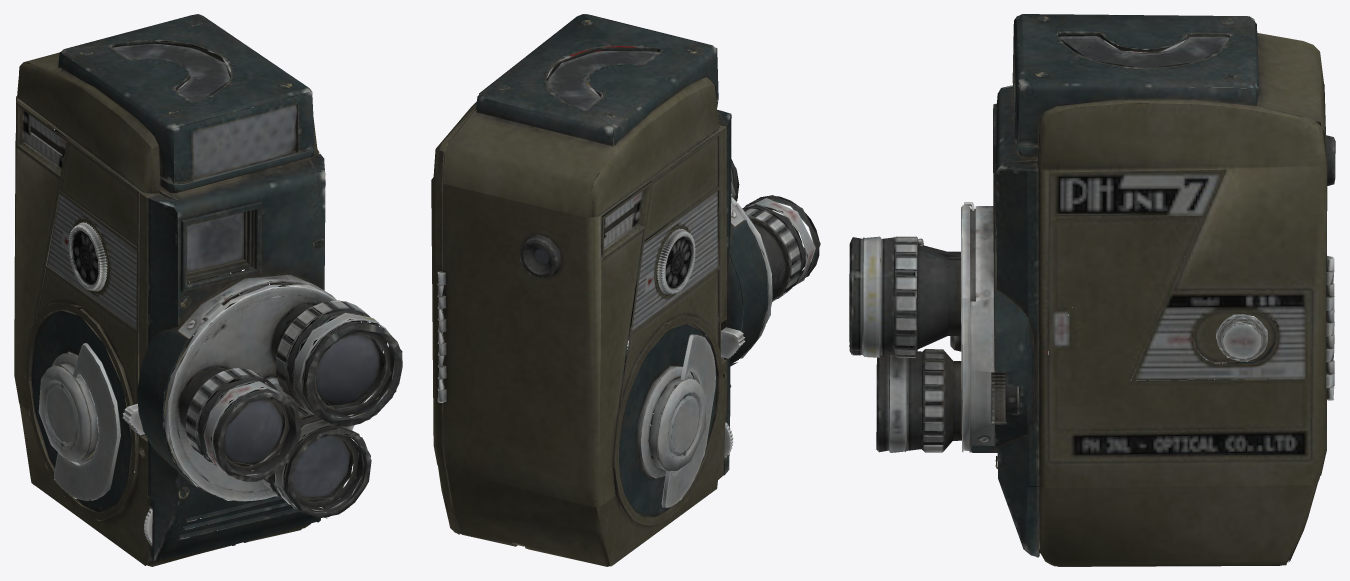
File: distance.fbx
3 views of the same model, side by side, from view 1: azimuth 30°, elevation 25°; view 2: azimuth 150°, elevation 25°; view 3: azimuth 270°, elevation 25° (orthographic). The views are drawn at different scales.
Parts seen in each view (by area): view 1: vintage_video_camera; view 2: vintage_video_camera; view 3: vintage_video_camera.
Boxes of the visible parts, x1=… form: vintage_video_camera: x1=14, y1=14, x2=402, y2=566; vintage_video_camera: x1=431, y1=14, x2=820, y2=566; vintage_video_camera: x1=849, y1=14, x2=1335, y2=566.
Bounding box in the file's own units: 7.12 × 14.48 × 13.26.
